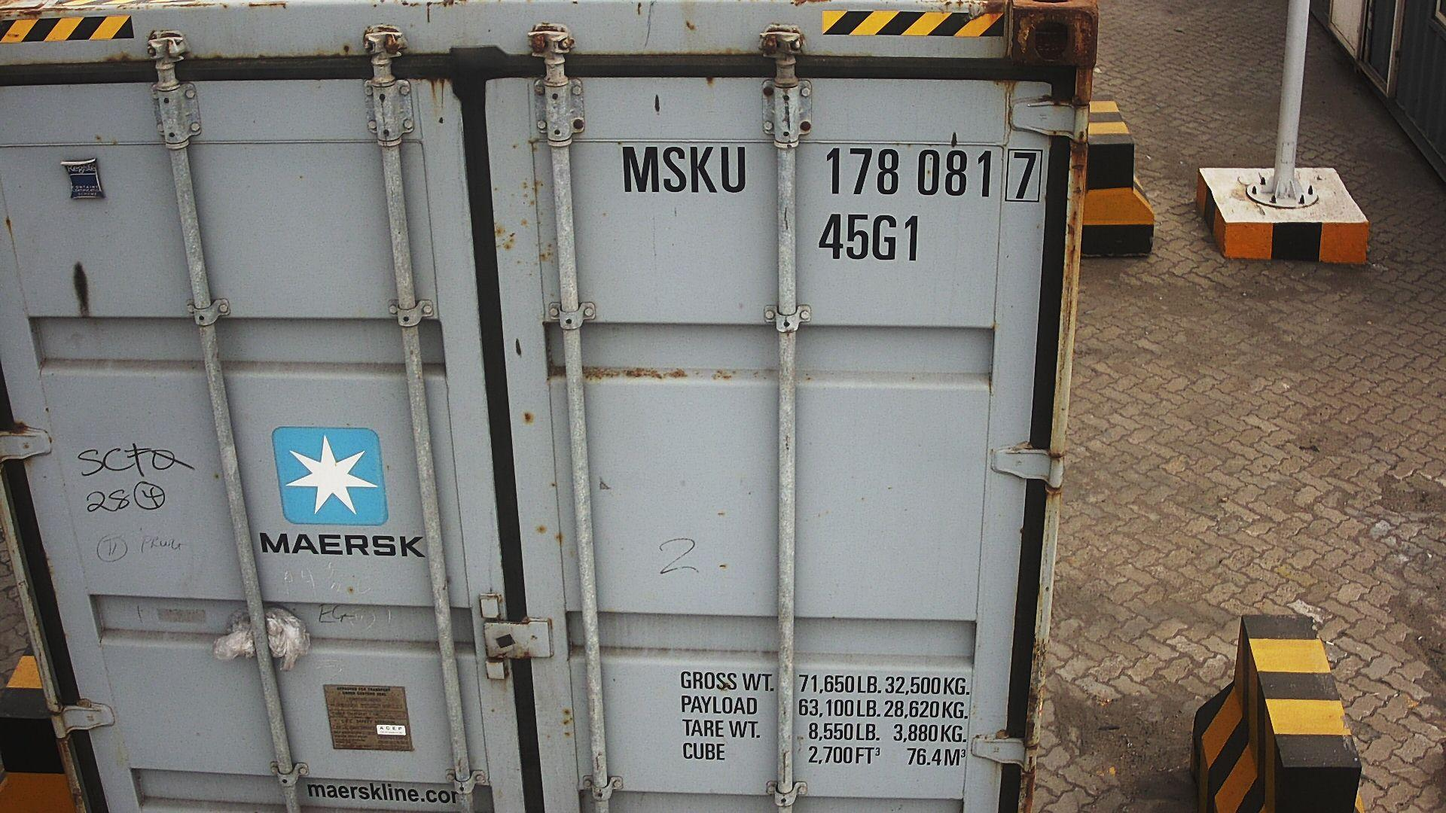container-numbers: (616, 140, 1054, 205), (814, 209, 926, 265)
